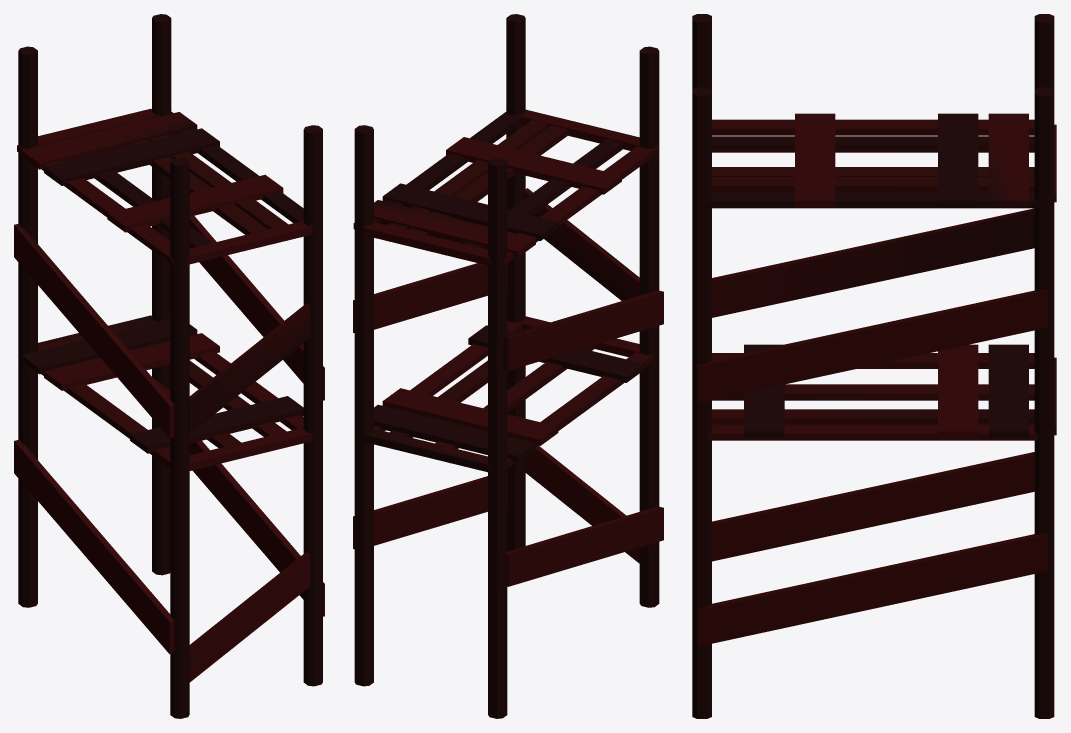
The model's file is Scaffold.fbx.
3 views of the same model, side by side, from view 1: azimuth 30°, elevation 25°; view 2: azimuth 150°, elevation 25°; view 3: azimuth 270°, elevation 25° (orthographic). The views are drawn at different scales.
Visible parts, largest first — view 1: Model_this; view 2: Model_this; view 3: Model_this.
Boxes of the visible parts, <box> form: Model_this: <box>14,14,324,718</box>; Model_this: <box>353,14,663,718</box>; Model_this: <box>692,14,1056,718</box>.
Size of the model in its own units: 126 by 420 by 223.
